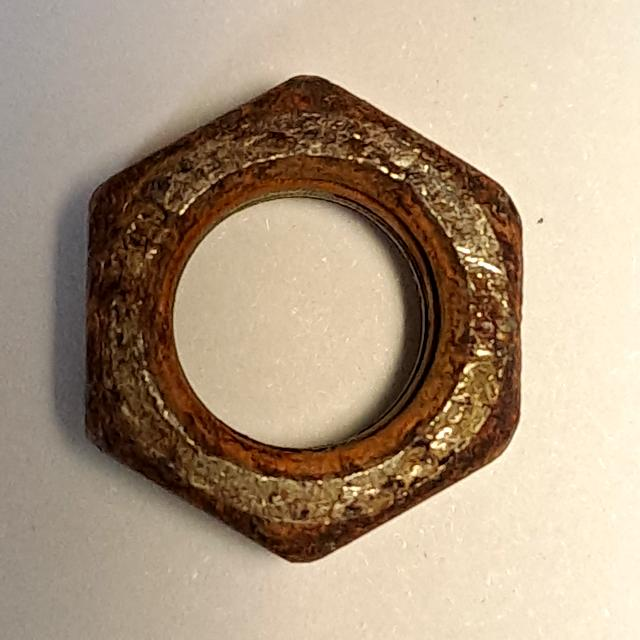Rust: (70, 59, 536, 575)
